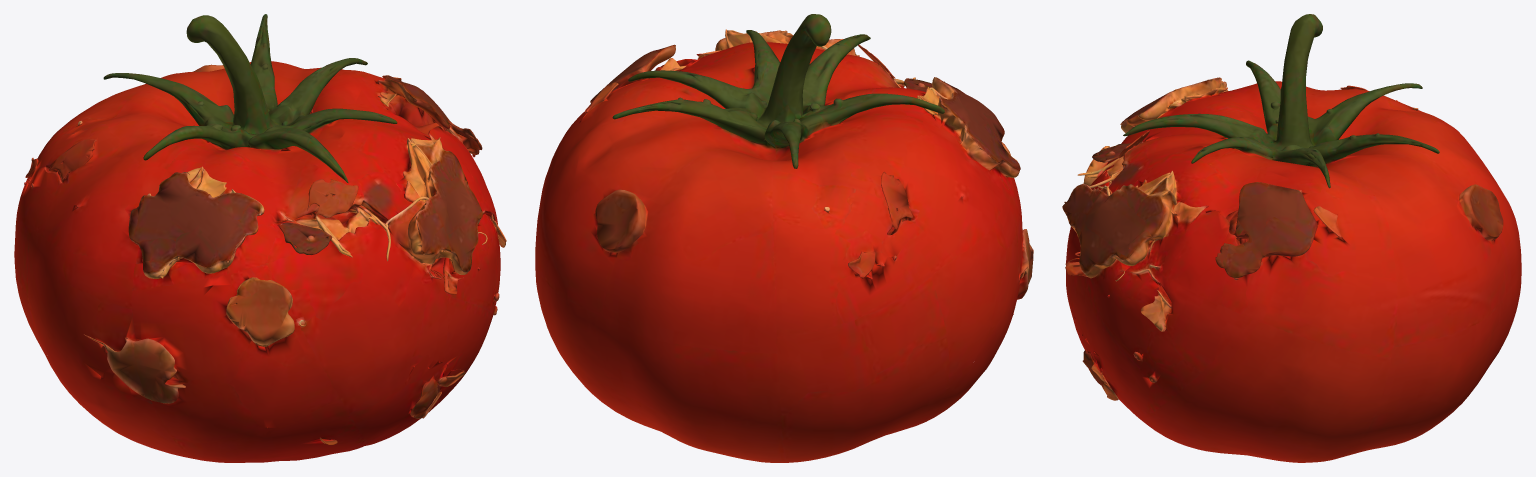
The model's file is rotten.glb.
3 renders of one model, left to right at view 1: azimuth 30°, elevation 25°; view 2: azimuth 150°, elevation 25°; view 3: azimuth 270°, elevation 25°, orthographic. The views are drawn at different scales.
Parts seen in each view (by area): view 1: tripo_node_4eb8d3bf-1b70-4992-a2d6-e93afb6d5470; view 2: tripo_node_4eb8d3bf-1b70-4992-a2d6-e93afb6d5470; view 3: tripo_node_4eb8d3bf-1b70-4992-a2d6-e93afb6d5470.
Part boxes in pixels (x1,y1,x2,y2): tripo_node_4eb8d3bf-1b70-4992-a2d6-e93afb6d5470: (14,14,506,462); tripo_node_4eb8d3bf-1b70-4992-a2d6-e93afb6d5470: (535,14,1033,462); tripo_node_4eb8d3bf-1b70-4992-a2d6-e93afb6d5470: (1062,14,1521,462).
Bounding box in the file's own units: 0.9769 × 0.8997 × 0.9796.
1 material, 1 textured.
